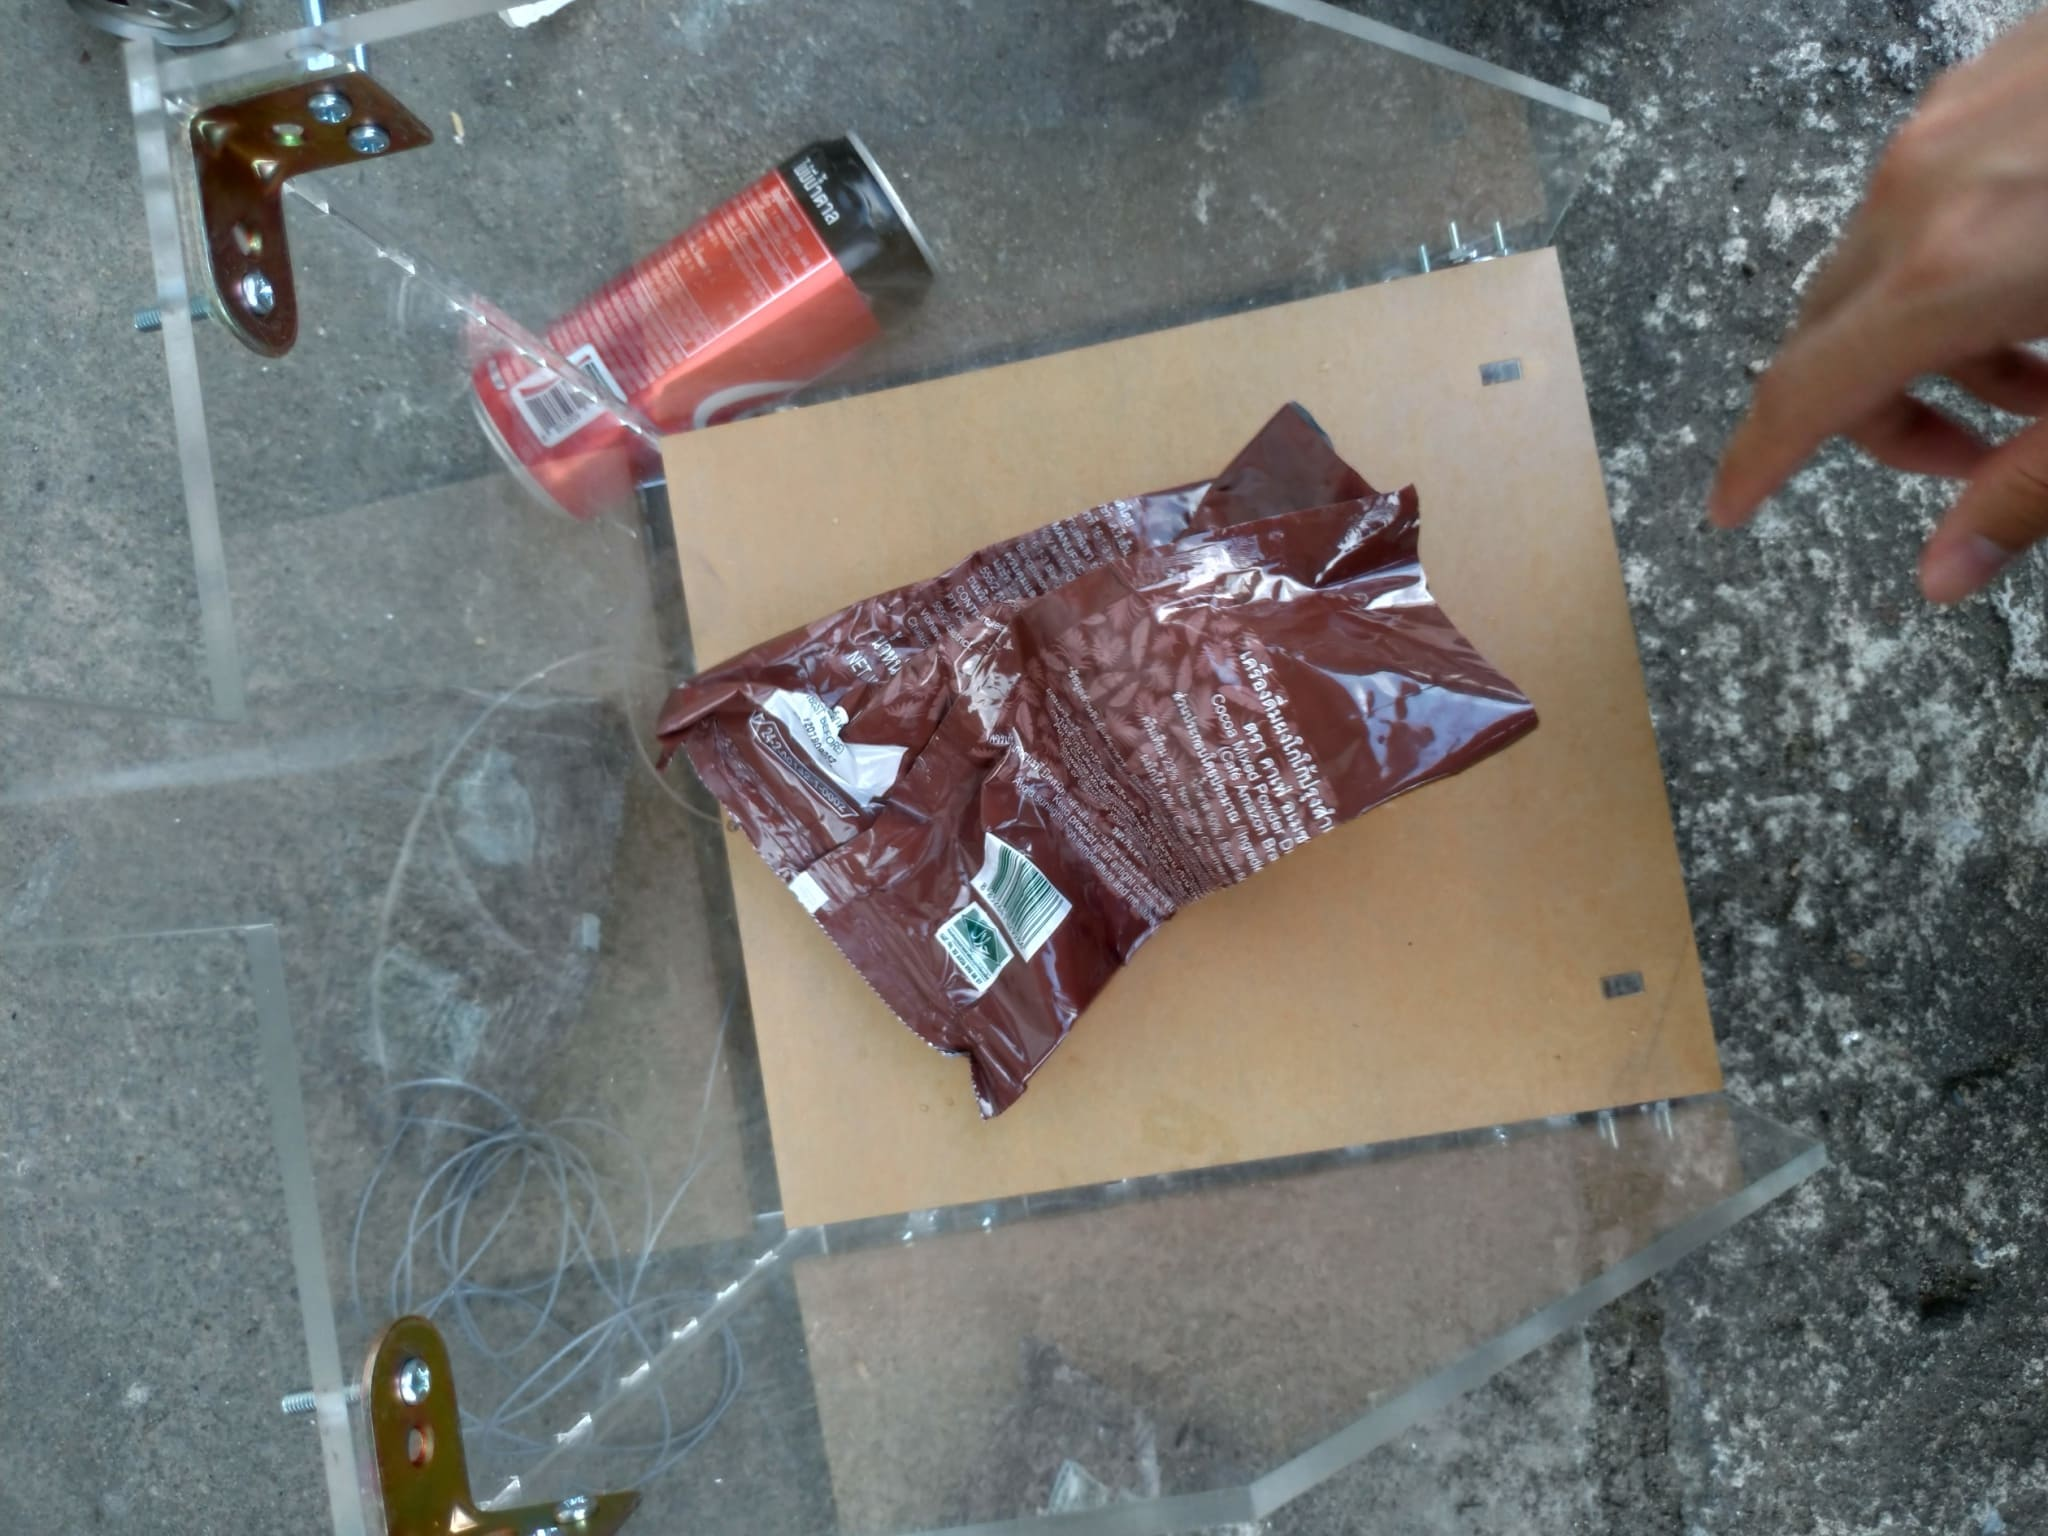AlCan: (468, 131, 939, 521)
Others: (669, 403, 1546, 1121)
